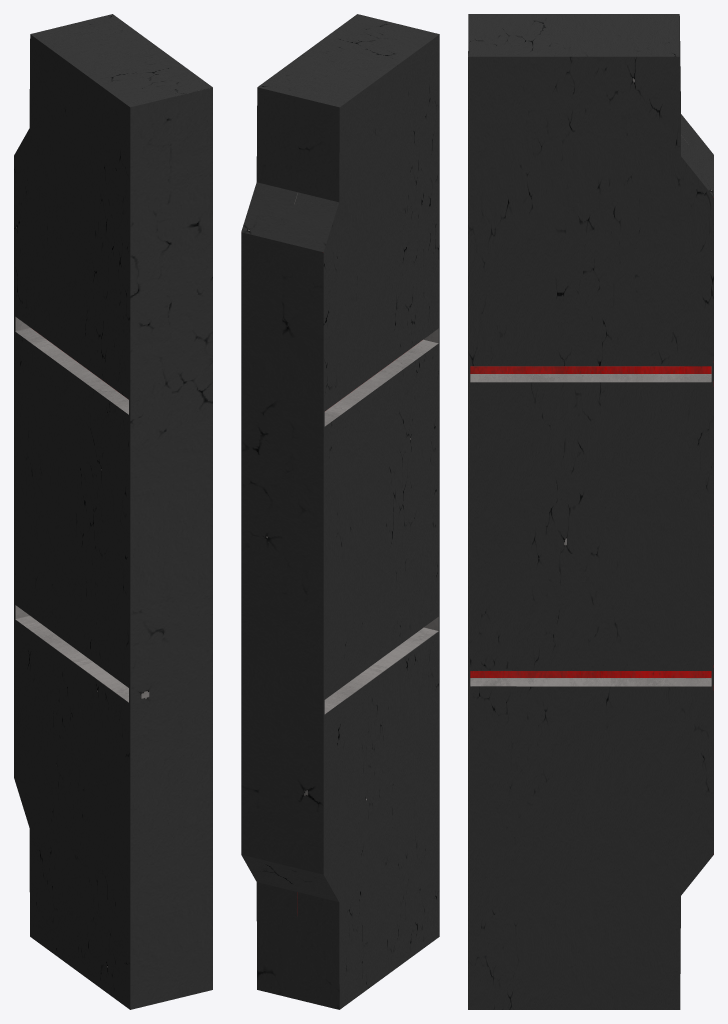
File: DP_DoorLeft.fbx
The picture shows the model from 3 angles, left to right: view 1: azimuth 30°, elevation 25°; view 2: azimuth 150°, elevation 25°; view 3: azimuth 270°, elevation 25°; orthographic projection. The views are drawn at different scales.
Parts seen in each view (by area): view 1: DP_DoorLeft; view 2: DP_DoorLeft; view 3: DP_DoorLeft.
Boxes of the visible parts, x1,y1,x2,y2 form: DP_DoorLeft: (14, 14, 212, 1009); DP_DoorLeft: (241, 14, 439, 1009); DP_DoorLeft: (468, 14, 713, 1009).
Size of the model in its own units: 8.6 by 89.84 by 20.99.
1 material, 1 textured.
